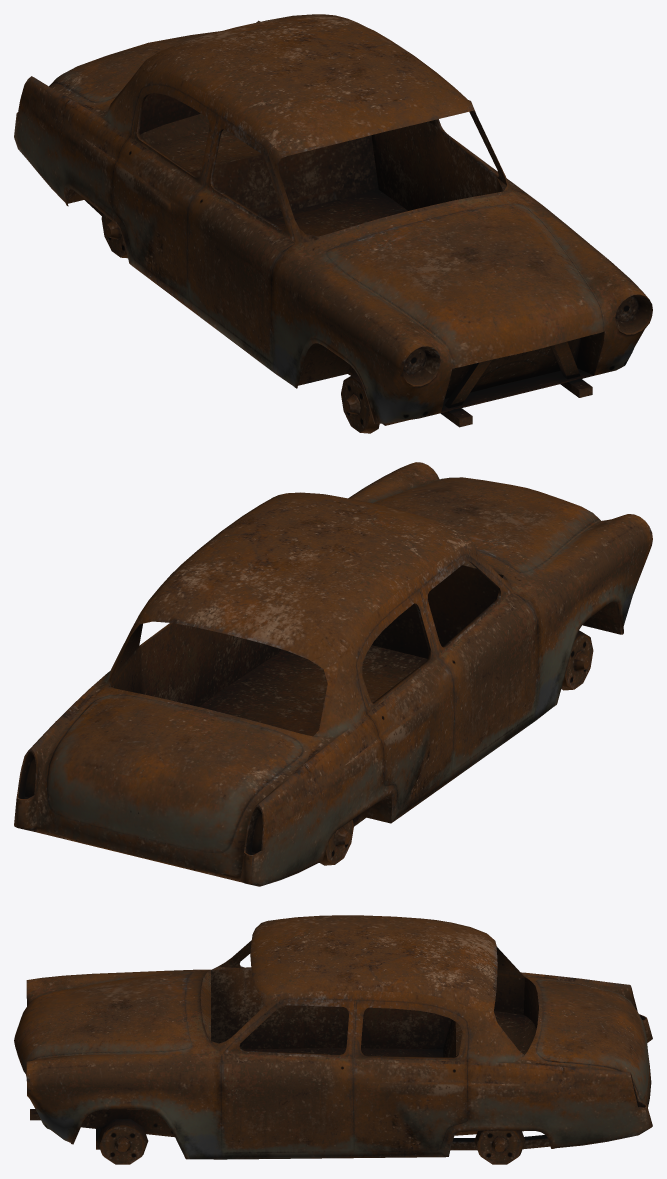
File: car_wreck.fbx
3 views of the same model, one above another, from view 1: azimuth 30°, elevation 25°; view 2: azimuth 150°, elevation 25°; view 3: azimuth 270°, elevation 25° (orthographic). The views are drawn at different scales.
Visible parts, largest first — view 1: Object005; view 2: Object005; view 3: Object005.
Part boxes in pixels (left/top/right/bottom): Object005: left=14, top=14, right=652, bottom=433; Object005: left=14, top=462, right=652, bottom=886; Object005: left=14, top=915, right=652, bottom=1164.
Bounding box in the file's own units: 462 × 181 × 145.
Materials: 1 (1 with a texture image).
